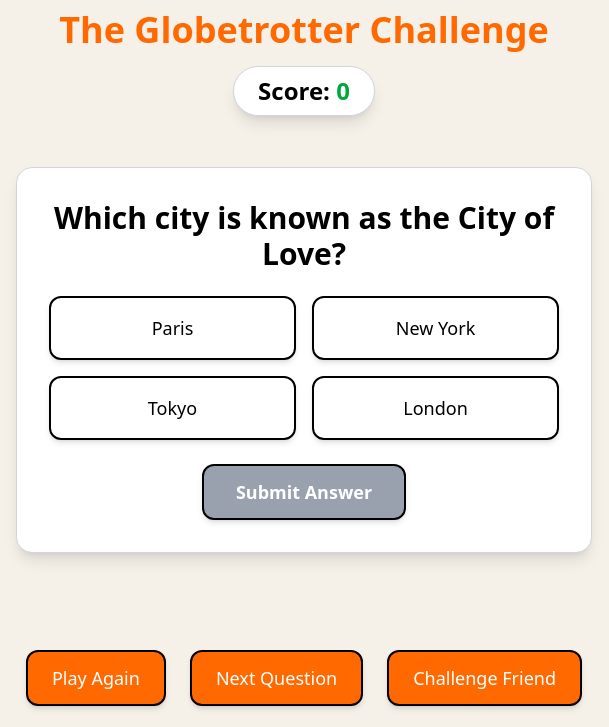
Test: Game Component › handles incorrect answers
Expected: the text "Which city is known as the City of Love?" is shown, 49,200 -> 559,272
Click the button "Tokyo" at [172, 408], box 49,376 -> 296,440
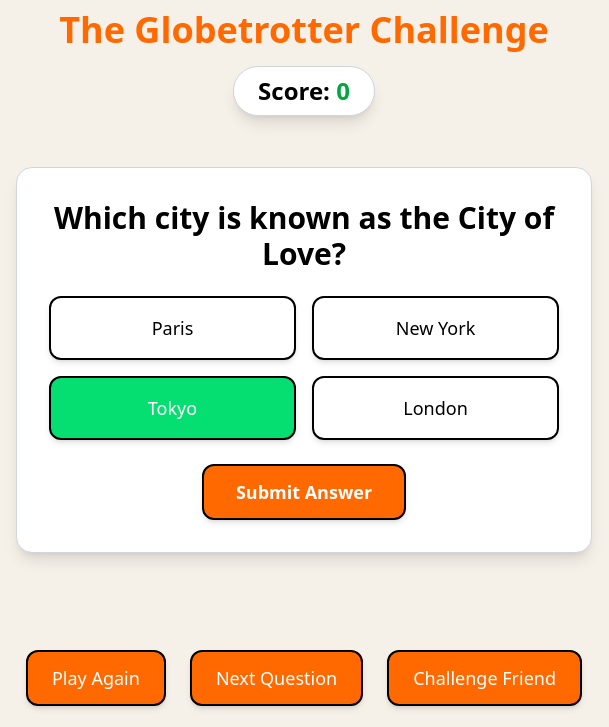
Click the button "Submit Answer" at [304, 492], box 202,464 -> 406,520
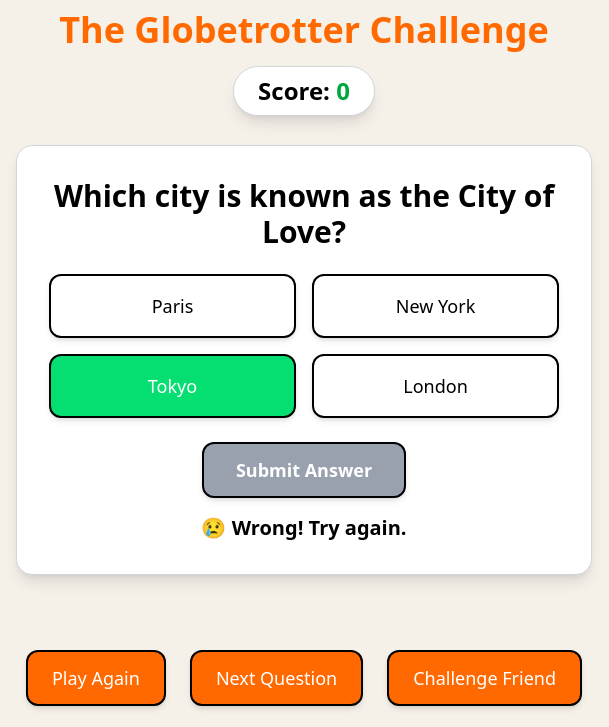
Now the text "😢 Wrong! Try again." is shown, box 201,514 -> 406,541
